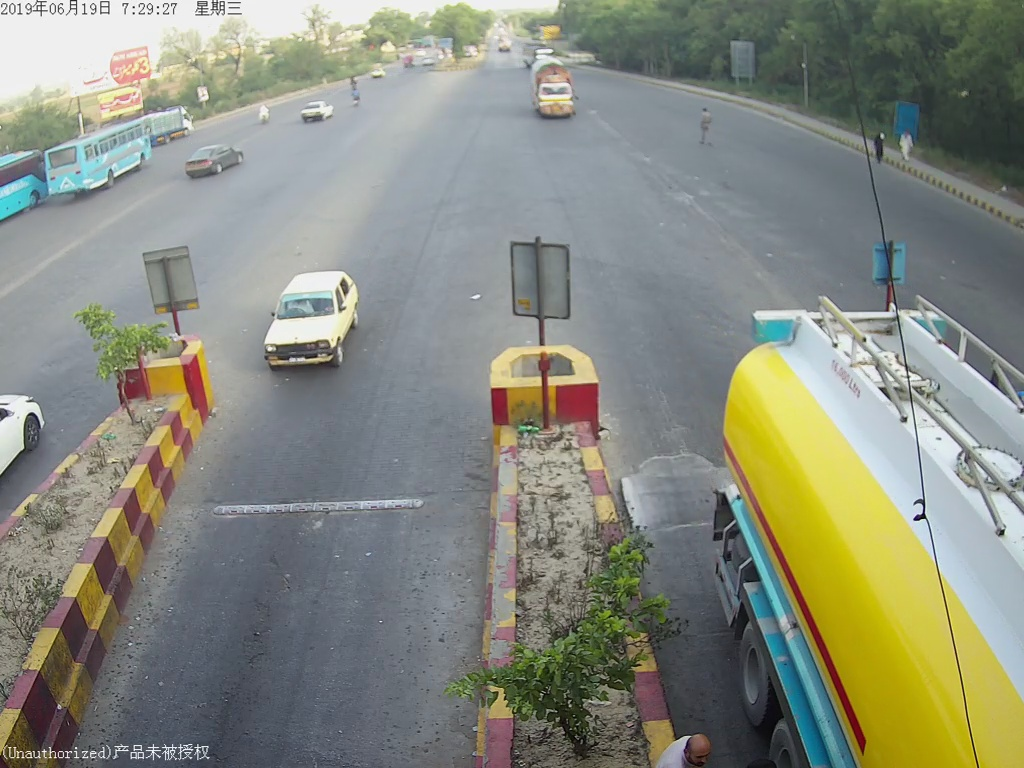Cat-1: (255, 267, 367, 374)
Cat-4: (531, 64, 586, 128)
